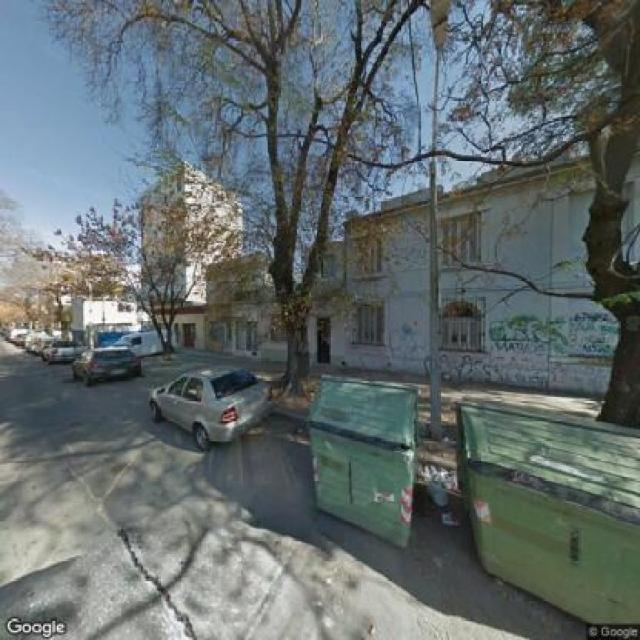garbage: (406, 440, 472, 546)
